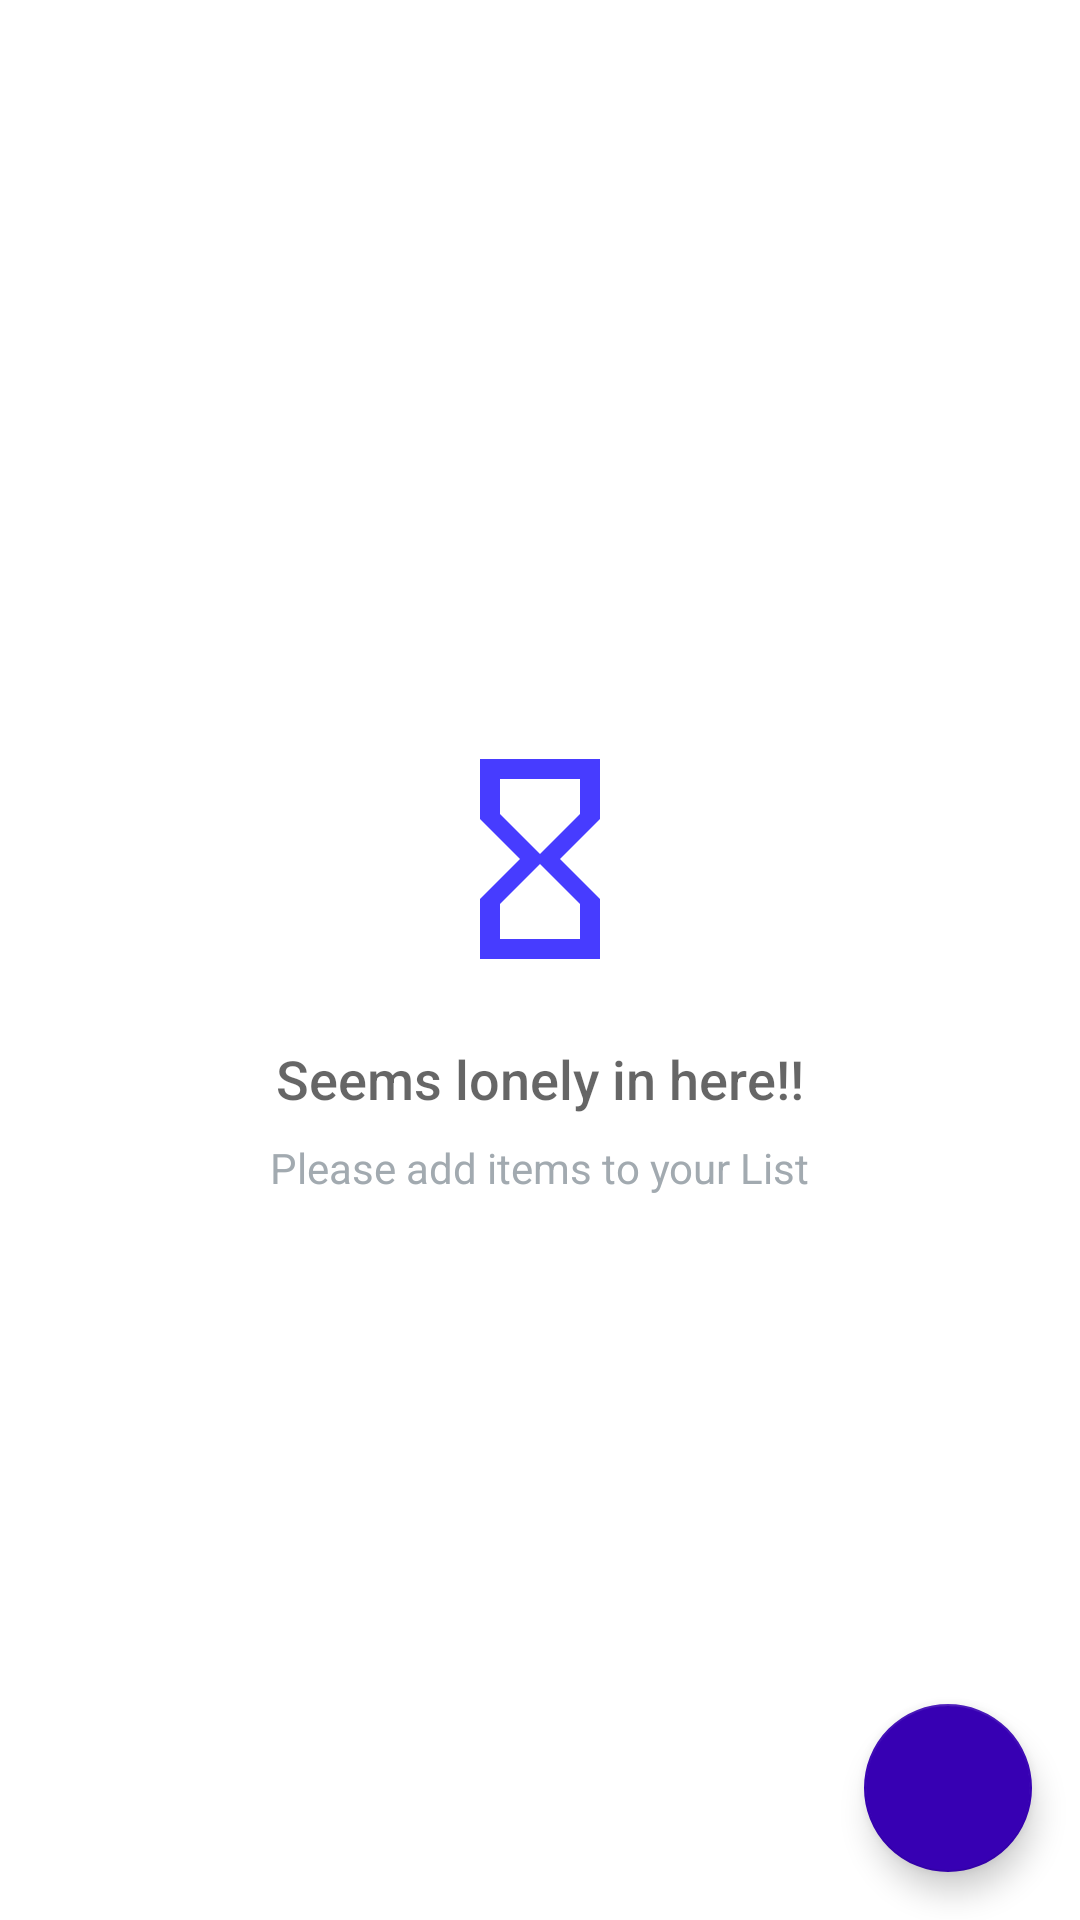

Named icons in this screenshot (1080*1920) and their bounding boxes, (x1, y1, x2, y2):
hourglass empty: (480, 759, 600, 959)
